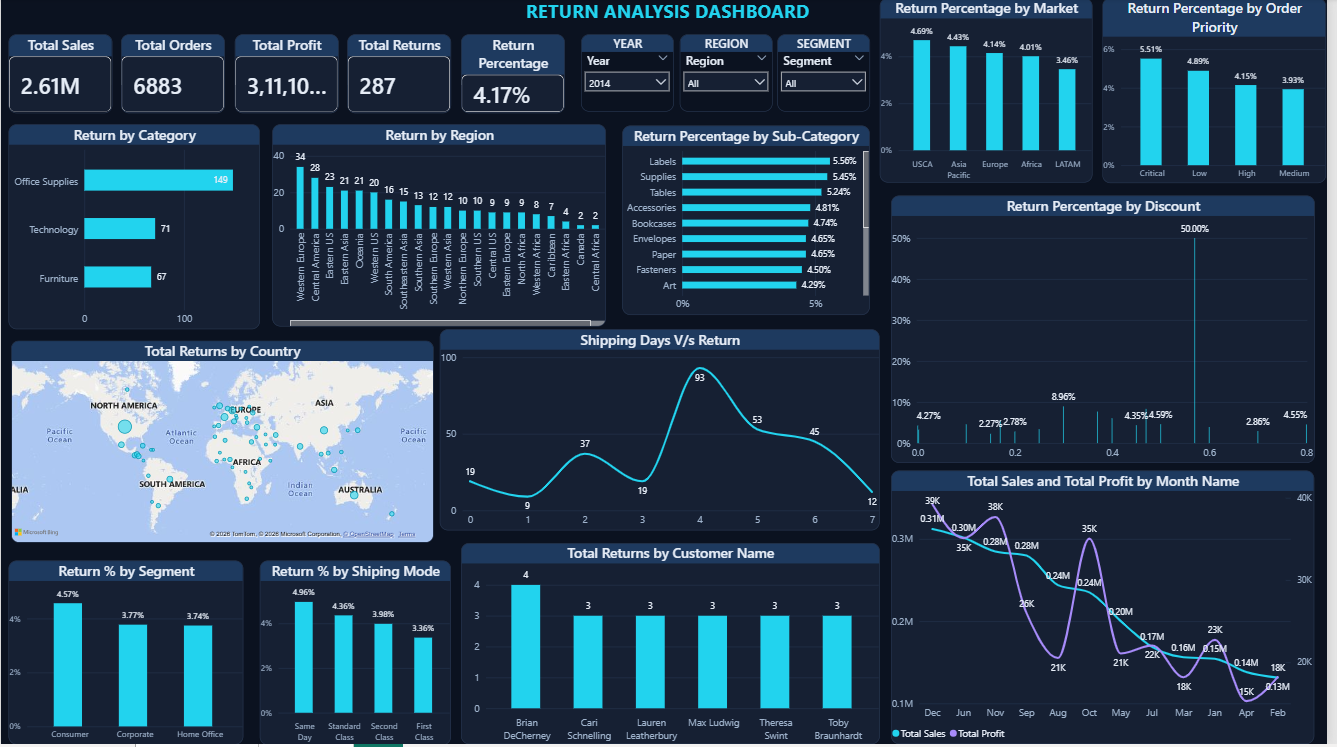

What the dashboard file says about the page in this screenshot:
{"tool":"powerbi","page":{"name":"Main Page","canvas":[1920,1080],"ordinal":0},"visuals":[{"type":"textbox","box":[10.9,0,1909.2,52.5],"z":0},{"type":"cardVisual","title":"Total Sales","fields":{"Data":["Orders.Total Sales"]},"box":[10,52.5,150,114],"z":1000},{"type":"cardVisual","title":"Total Orders","fields":{"Data":["Orders.Total Orders"]},"box":[174,52.5,150,114],"z":2000},{"type":"cardVisual","title":"Total Returns ","fields":{"Data":["Orders.Total Returns"]},"box":[502,52.5,150,114],"z":3000},{"type":"cardVisual","title":"Return Percentage","fields":{"Data":["Orders.Return Percentage"]},"box":[666,52.5,150,114],"z":4000},{"type":"barChart","title":"Return by Category","fields":{"Category":["Products.Category"],"Y":["Orders.Total Returns"]},"box":[10.9,182.8,363.7,296.8],"z":5000},{"type":"map","fields":{"Category":["Orders.Country"],"Size":["Orders.Total Returns"]},"box":[14.5,495.8,611.7,293.2],"z":6000},{"type":"slicer","title":"YEAR","fields":{"Values":["Date Table.Year"]},"box":[840,52,134,112],"z":7000},{"type":"columnChart","fields":{"Category":["Orders.Customer Name"],"Y":["Orders.Total Returns"]},"box":[665.7,789.7,606,291.1],"z":8000},{"type":"columnChart","title":"Return by Region","fields":{"Category":["Orders.Region"],"Y":["Orders.Total Returns"]},"box":[392.7,182.8,483.2,293.2],"z":9000},{"type":"lineChart","title":"Shipping Days V/s Return","fields":{"Category":["Orders.Shipping Days"],"Y":["Orders.Total Returns"]},"box":[634.7,479.6,637,291.1],"z":10000},{"type":"lineChart","fields":{"Category":["Date Table.Month Name"],"Y":["Orders.Total Sales"],"Y2":["Orders.Total Profit"]},"box":[1288.4,684.8,613.2,396.1],"z":11000},{"type":"clusteredColumnChart","title":"Return % by Segment","fields":{"Category":["Orders.Segment"],"Y":["Orders.Return Percentage"]},"box":[10,814,340,266],"z":12000},{"type":"clusteredColumnChart","title":"Return % by Shiping Mode","fields":{"Category":["Orders.Ship Mode"],"Y":["Orders.Return Percentage"]},"box":[374.6,813.6,276.8,267.2],"z":13000},{"type":"columnChart","fields":{"Category":["Orders.Market"],"Y":["Orders.Return Percentage"]},"box":[1271.7,0,307.8,267.2],"z":14000},{"type":"columnChart","fields":{"Category":["Orders.Order Priority"],"Y":["Orders.Return Percentage"]},"box":[1594.3,0,323.9,267.8],"z":15000},{"type":"columnChart","fields":{"Category":["Orders.Discount"],"Y":["Orders.Return Percentage"]},"box":[1288.5,285.9,613.5,387.3],"z":16000},{"type":"barChart","fields":{"Category":["Products.Sub-Category"],"Y":["Orders.Return Percentage"]},"box":[900,184,358,274],"z":17000},{"type":"cardVisual","title":"Total Profit","fields":{"Data":["Orders.Total Profit"]},"box":[338,52.5,150,114],"z":18000},{"type":"slicer","title":"REGION","fields":{"Values":["Orders.Region"]},"box":[982,52,134,112],"z":19000},{"type":"slicer","title":"SEGMENT","fields":{"Values":["Orders.Segment"]},"box":[1124,52,134,112],"z":20000}]}

Visuals, with their boxes in screenshot pixels (x1, y1, x2, y2), scaled from the page's 1920x1080 canvas onto the 1337x747 screenshot:
textbox: 8,0,1336,36
"Total Sales" cardVisual: 7,36,111,115
"Total Orders" cardVisual: 121,36,226,115
"Total Returns " cardVisual: 350,36,454,115
"Return Percentage" cardVisual: 464,36,568,115
"Return by Category" barChart: 8,126,261,332
map - Orders.Country x Orders.Total Returns: 10,343,436,546
"YEAR" slicer: 585,36,678,113
columnChart - Orders.Customer Name x Orders.Total Returns: 464,546,886,746
"Return by Region" columnChart: 273,126,610,329
"Shipping Days V/s Return" lineChart: 442,332,886,533
lineChart - Date Table.Month Name x Orders.Total Sales: 897,474,1324,746
"Return % by Segment" clusteredColumnChart: 7,563,244,746
"Return % by Shiping Mode" clusteredColumnChart: 261,563,454,746
columnChart - Orders.Market x Orders.Return Percentage: 886,0,1100,185
columnChart - Orders.Order Priority x Orders.Return Percentage: 1110,0,1336,185
columnChart - Orders.Discount x Orders.Return Percentage: 897,198,1324,466
barChart - Products.Sub-Category x Orders.Return Percentage: 627,127,876,317
"Total Profit" cardVisual: 235,36,340,115
"REGION" slicer: 684,36,777,113
"SEGMENT" slicer: 783,36,876,113
